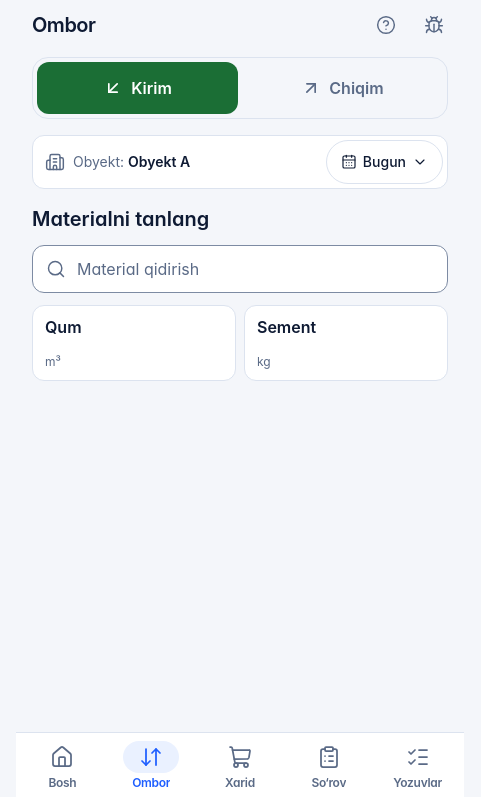
Test: T1 — kirim/chiqim turi › MainButton matni va rangi turga qarab; forma ichida tur belgisi
Click the button "Sement kg": [346, 343] box top-left (244, 305), bottom-right (448, 381)
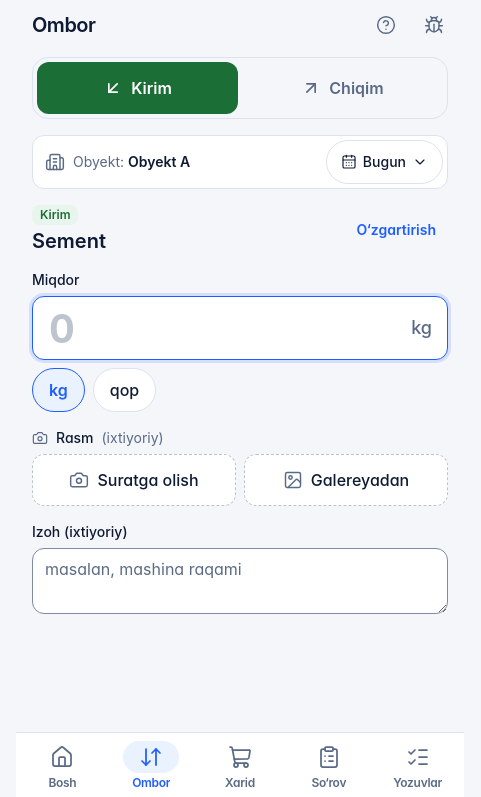
Expected: the text with test id "movement-type-badge" reads "Kirim", top-left (40, 207), bottom-right (70, 222)
Click the button "Chiqim": [342, 88] box top-left (242, 62), bottom-right (443, 114)
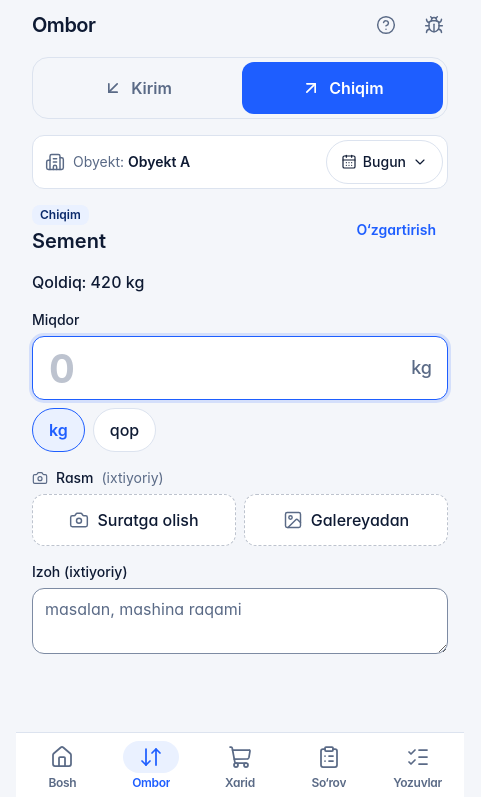
Expected: the text with test id "movement-type-badge" reads "Chiqim", top-left (40, 207), bottom-right (81, 222)
